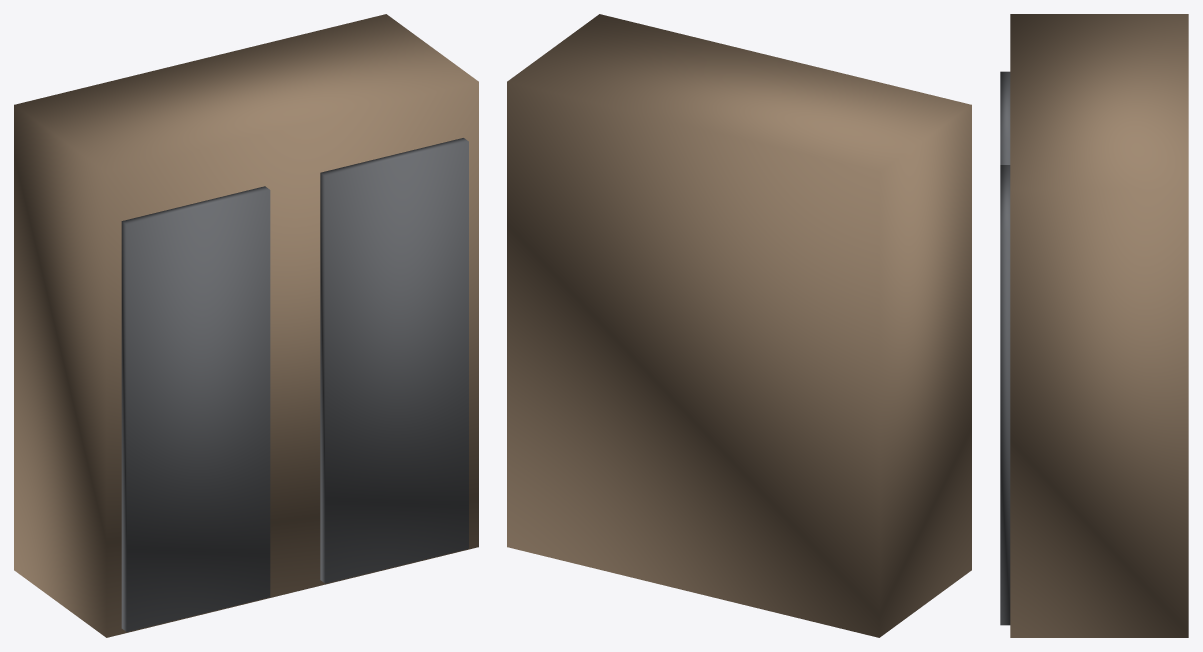
The model's file is confessional_booth__wide.glb.
The picture shows the model from 3 angles, left to right: view 1: azimuth 30°, elevation 25°; view 2: azimuth 150°, elevation 25°; view 3: azimuth 270°, elevation 25°; orthographic projection. The views are drawn at different scales.
Visible parts, largest first — view 1: world; view 2: world; view 3: world.
Boxes of the visible parts, bbox=[...] form: world: bbox=[14, 14, 478, 637]; world: bbox=[507, 14, 971, 637]; world: bbox=[1000, 14, 1188, 637].
Bounding box in the file's own units: 1.67 × 2 × 0.76.
